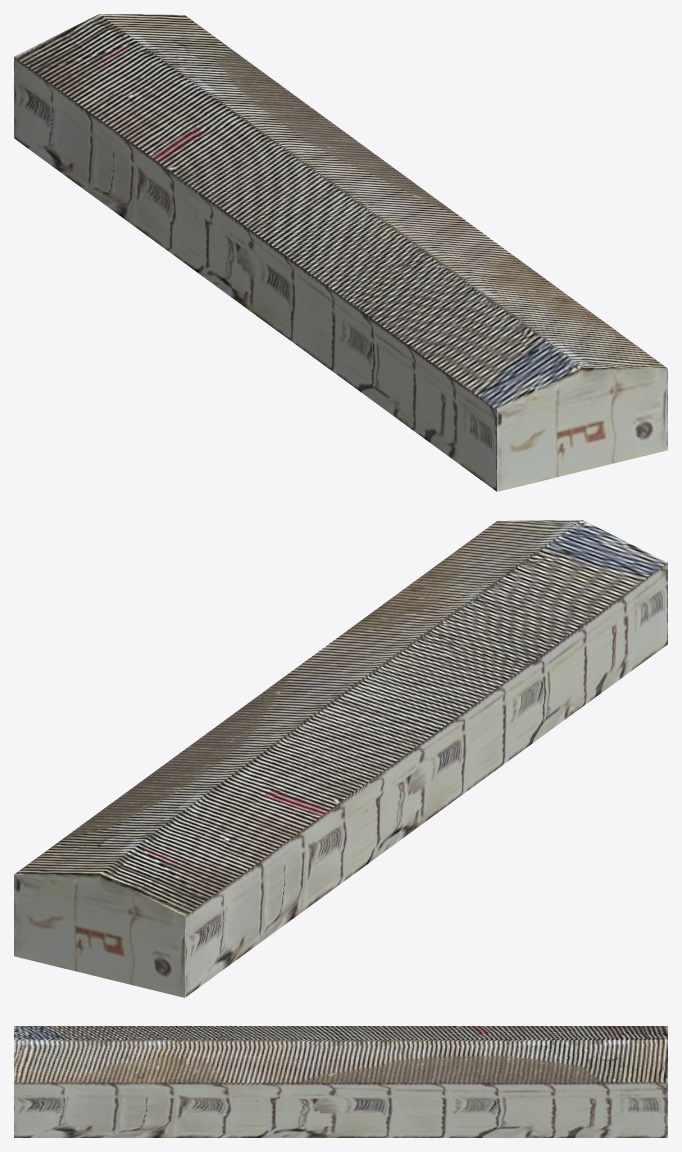
The model's file is Techni_zrif1.gltf.
3 views of the same model, one above another, from view 1: azimuth 30°, elevation 25°; view 2: azimuth 150°, elevation 25°; view 3: azimuth 270°, elevation 25° (orthographic). The views are drawn at different scales.
Visible parts, largest first — view 1: node1, node2, node4, node3; view 2: node1, node2, node4, node3; view 3: node2, node4, node1.
Part boxes in pixels (x1,y1,x2,y2): node1: (14,14,582,409); node2: (14,57,496,491); node4: (100,14,667,368); node3: (497,367,667,491); node1: (99,520,667,915); node2: (185,563,667,997); node4: (14,520,581,874); node3: (14,873,184,997); node2: (14,1082,667,1137); node4: (14,1039,667,1082); node1: (14,1026,667,1039).
Bounding box in the file's own units: 7.82 × 4.52 × 38.3.
